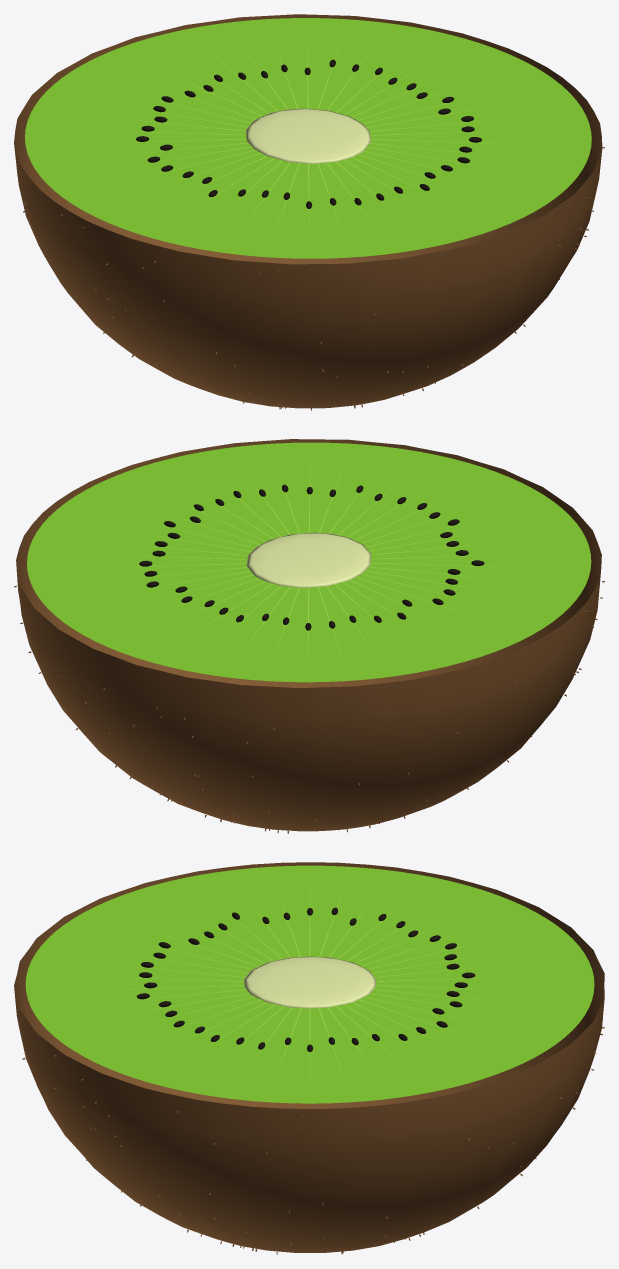
The model's file is kiwi.fbx.
3 views of the same model, one above another, from view 1: azimuth 30°, elevation 25°; view 2: azimuth 150°, elevation 25°; view 3: azimuth 270°, elevation 25° (orthographic).
Visible parts, largest first — view 1: kiwi; view 2: kiwi; view 3: kiwi.
Part boxes in pixels (x1,y1,x2,y2): kiwi: (14,14,604,410); kiwi: (14,439,604,833); kiwi: (14,862,604,1254).
Size of the model in its own units: 55 by 25 by 55.
